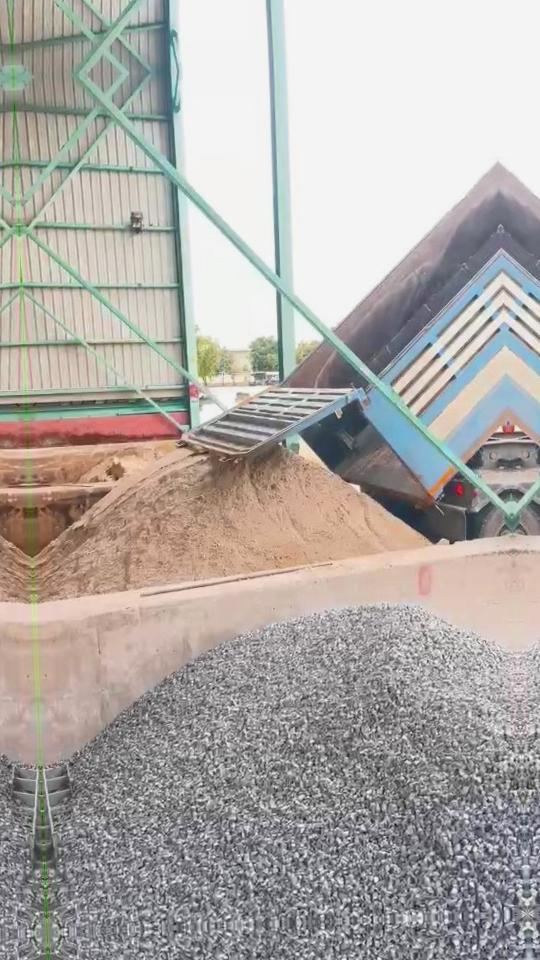gravel: (50, 605, 528, 931)
sand: (35, 448, 427, 600), (80, 453, 156, 482)
